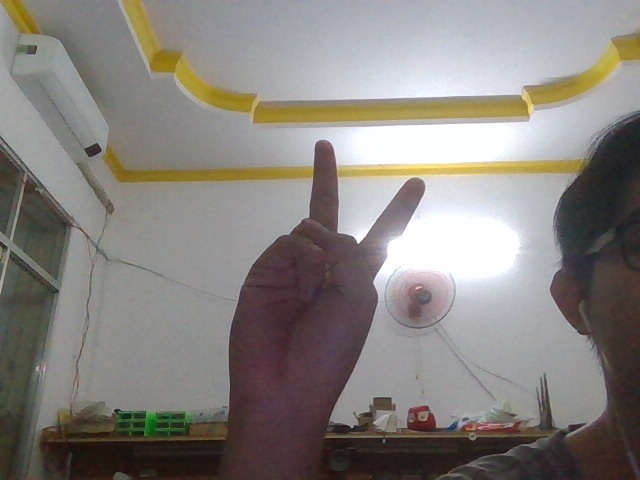hello: (195, 114, 445, 420)
